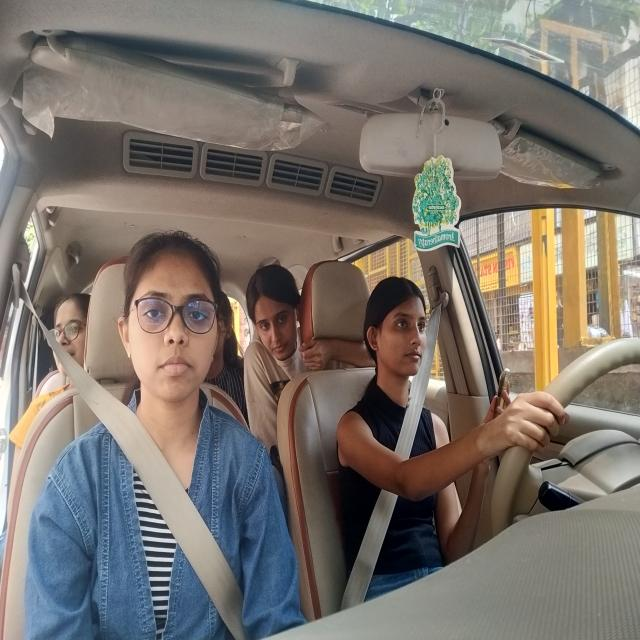mobile: (490, 363, 513, 420)
person: (121, 231, 221, 401), (359, 272, 431, 389), (244, 262, 302, 365), (53, 288, 95, 373)
